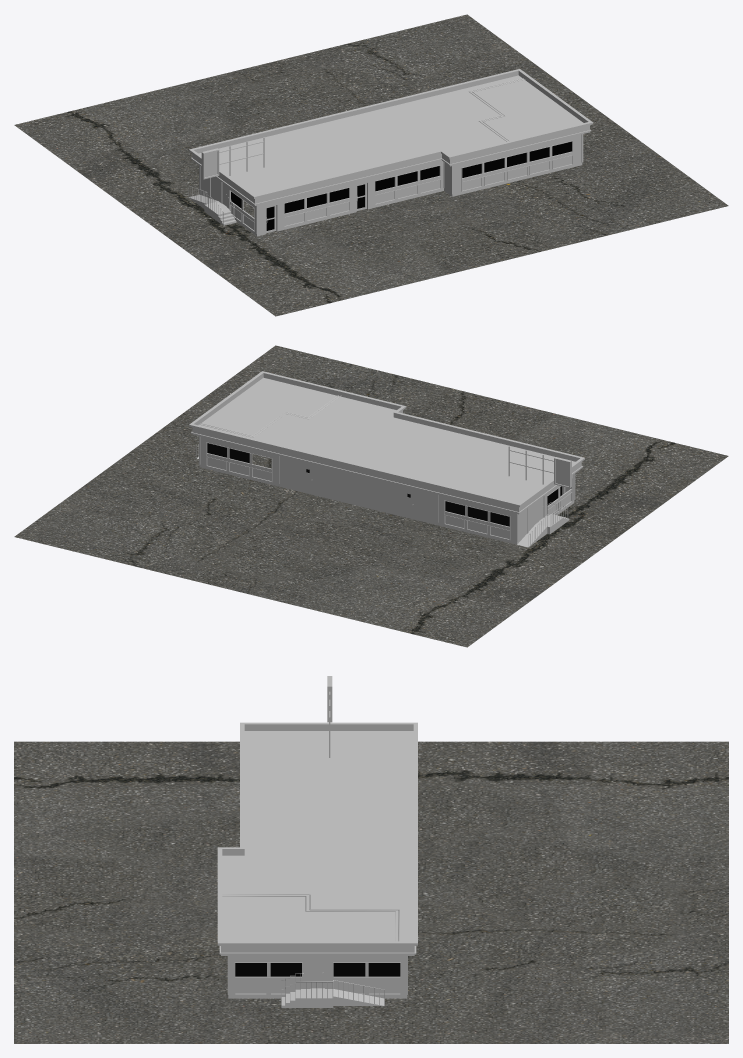
Rendered from diner_structure.fbx.
3 renders of one model, top to bottom at view 1: azimuth 30°, elevation 25°; view 2: azimuth 150°, elevation 25°; view 3: azimuth 270°, elevation 25°, orthographic. The views are drawn at different scales.
Visible parts, largest first — view 1: Plane001, Component#35_001, [206]; view 2: Plane001, Component#35_001, [206]; view 3: Plane001, Component#35_001, [206].
Part boxes in pixels (<box>): Plane001: <box>14,14,728,316</box>; Component#35_001: <box>188,69,593,236</box>; [206]: <box>231,141,571,230</box>; Plane001: <box>14,345,728,647</box>; Component#35_001: <box>189,371,584,547</box>; [206]: <box>207,443,562,526</box>; Plane001: <box>14,741,728,1043</box>; Component#35_001: <box>217,676,417,1007</box>; [206]: <box>235,963,400,976</box>.
Bounding box in the file's own units: 40 × 5.8 × 40.
